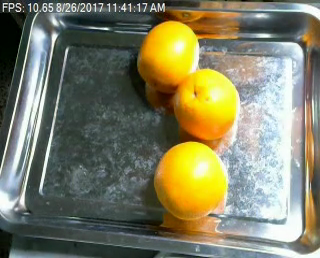Orange: (154, 139, 227, 220), (173, 69, 241, 140), (137, 19, 200, 89)
